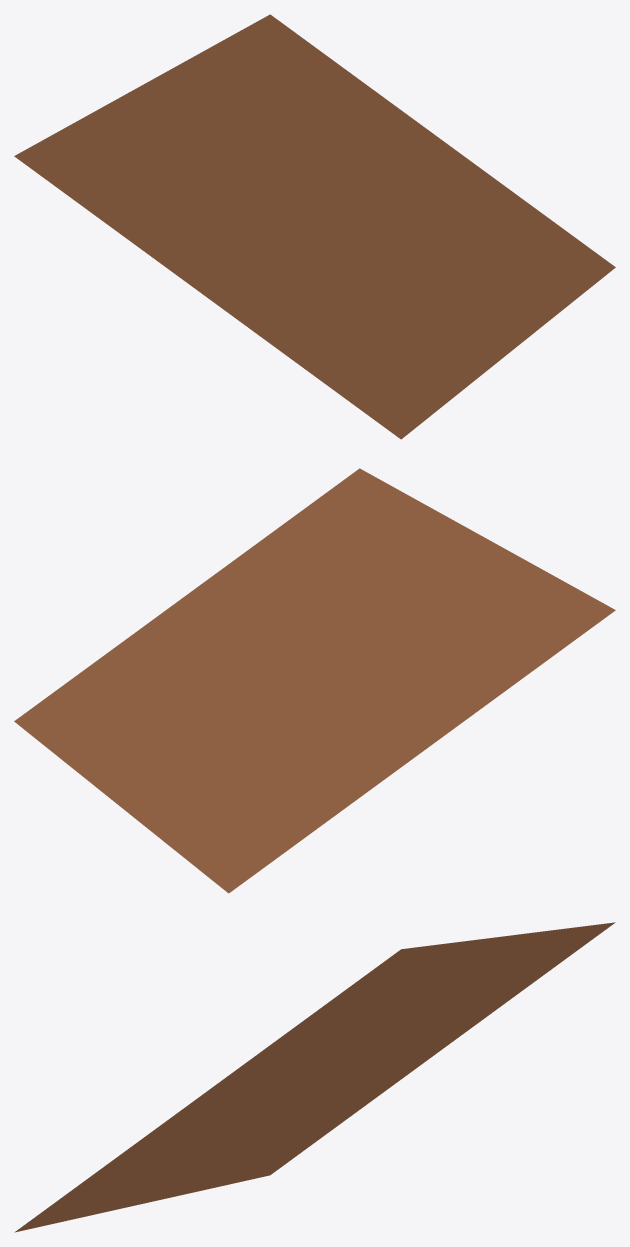
File: 1110-Buildings-shell-pieces-roof-emitRoof-2-triangles-2-95-x-1-19-x-8-40-m-from-resid.glb
The picture shows the model from 3 angles, top to bottom: view 1: azimuth 30°, elevation 25°; view 2: azimuth 150°, elevation 25°; view 3: azimuth 330°, elevation 25°; orthographic projection.
Parts seen in each view (by area): view 1: emitRoof; view 2: emitRoof; view 3: emitRoof.
Boxes of the visible parts, x1,y1,x2,y2 form: emitRoof: [14, 14, 615, 439]; emitRoof: [14, 468, 615, 893]; emitRoof: [14, 922, 615, 1232].
Bounding box in the file's own units: 2.95 × 1.19 × 8.4.
